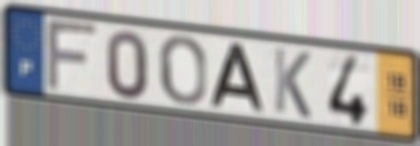0: (103, 26, 151, 102)
4: (325, 51, 371, 129)
A: (207, 40, 268, 115)
F: (44, 19, 101, 94)
K: (271, 44, 313, 122)
O: (157, 33, 209, 107)
